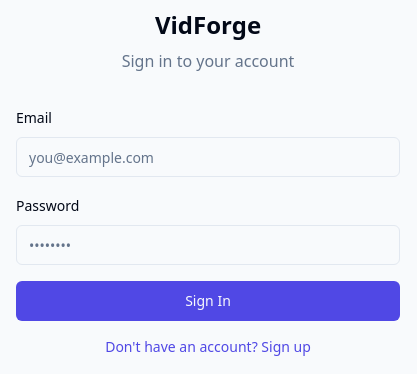
Scenario: Login Page › toggles to register mode
The width and height of the screenshot is (417, 374).
Click the button "Don't have an account? Sign up" at (208, 347), box x1=105 y1=337 x2=311 y2=357
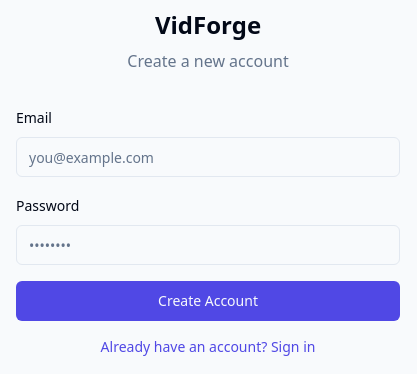
Result: the text "Create a new account" is shown at x1=127 y1=50 x2=289 y2=72
Result: the button "Create Account" is shown at x1=16 y1=281 x2=400 y2=321
